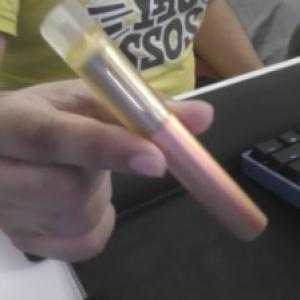Golden-E-Ciggirate: (39, 5, 266, 243)
